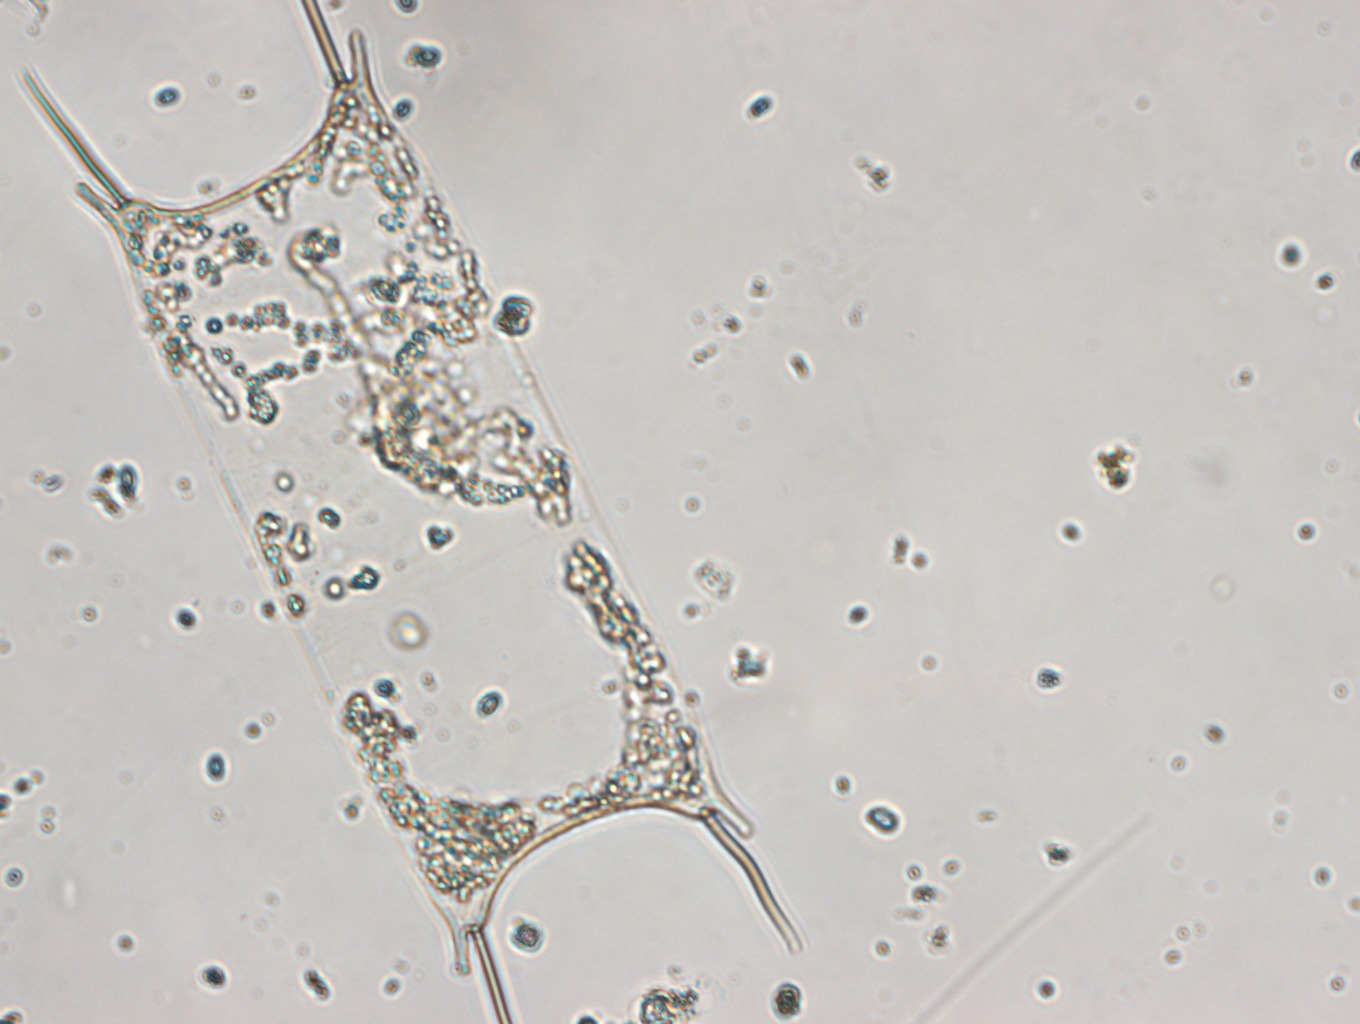biddulphia: (17, 1, 803, 1024)
